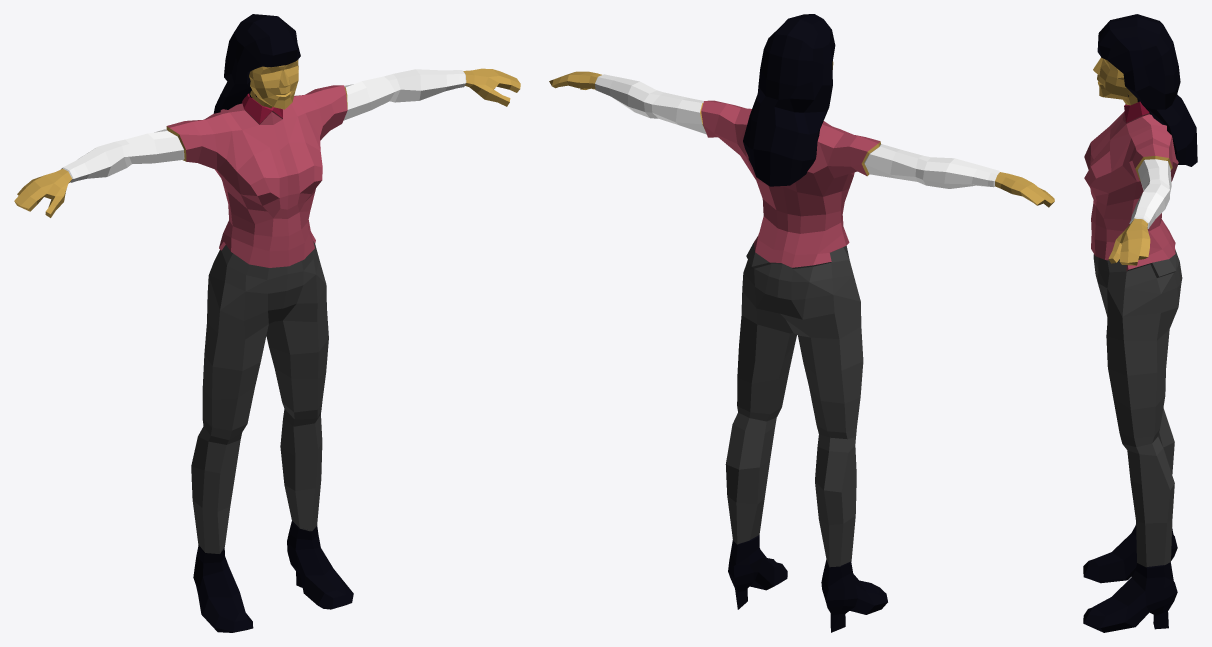
The model's file is person7.fbx.
The picture shows the model from 3 angles, left to right: view 1: azimuth 30°, elevation 25°; view 2: azimuth 150°, elevation 25°; view 3: azimuth 270°, elevation 25°; orthographic projection.
Parts seen in each view (by area): view 1: Girl1_Face001, Girl1_Chest001, Group007, Girl1_Shoes001, Girl1_Hair001; view 2: Girl1_Face001, Girl1_Chest001, Girl1_Hair001, Group007, Girl1_Shoes001; view 3: Girl1_Face001, Girl1_Chest001, Girl1_Hair001, Girl1_Shoes001, Group007, Shirt.
Boxes of the visible parts, x1=… form: Girl1_Face001: x1=191, y1=241, x2=328, y2=553; Girl1_Chest001: x1=167, y1=85, x2=347, y2=267; Group007: x1=14, y1=60, x2=520, y2=217; Girl1_Shoes001: x1=193, y1=521, x2=353, y2=632; Girl1_Hair001: x1=213, y1=14, x2=300, y2=113; Girl1_Face001: x1=725, y1=243, x2=863, y2=567; Girl1_Chest001: x1=701, y1=100, x2=880, y2=267; Girl1_Hair001: x1=743, y1=14, x2=835, y2=186; Group007: x1=549, y1=61, x2=1054, y2=207; Girl1_Shoes001: x1=728, y1=535, x2=887, y2=632; Girl1_Face001: x1=1093, y1=250, x2=1182, y2=567; Girl1_Chest001: x1=1084, y1=111, x2=1178, y2=270; Girl1_Hair001: x1=1097, y1=14, x2=1197, y2=166; Girl1_Shoes001: x1=1083, y1=525, x2=1177, y2=632; Group007: x1=1093, y1=57, x2=1172, y2=265; Shirt: x1=1124, y1=101, x2=1149, y2=122.
Size of the model in its own units: 60.9 by 68.5 by 12.06.
